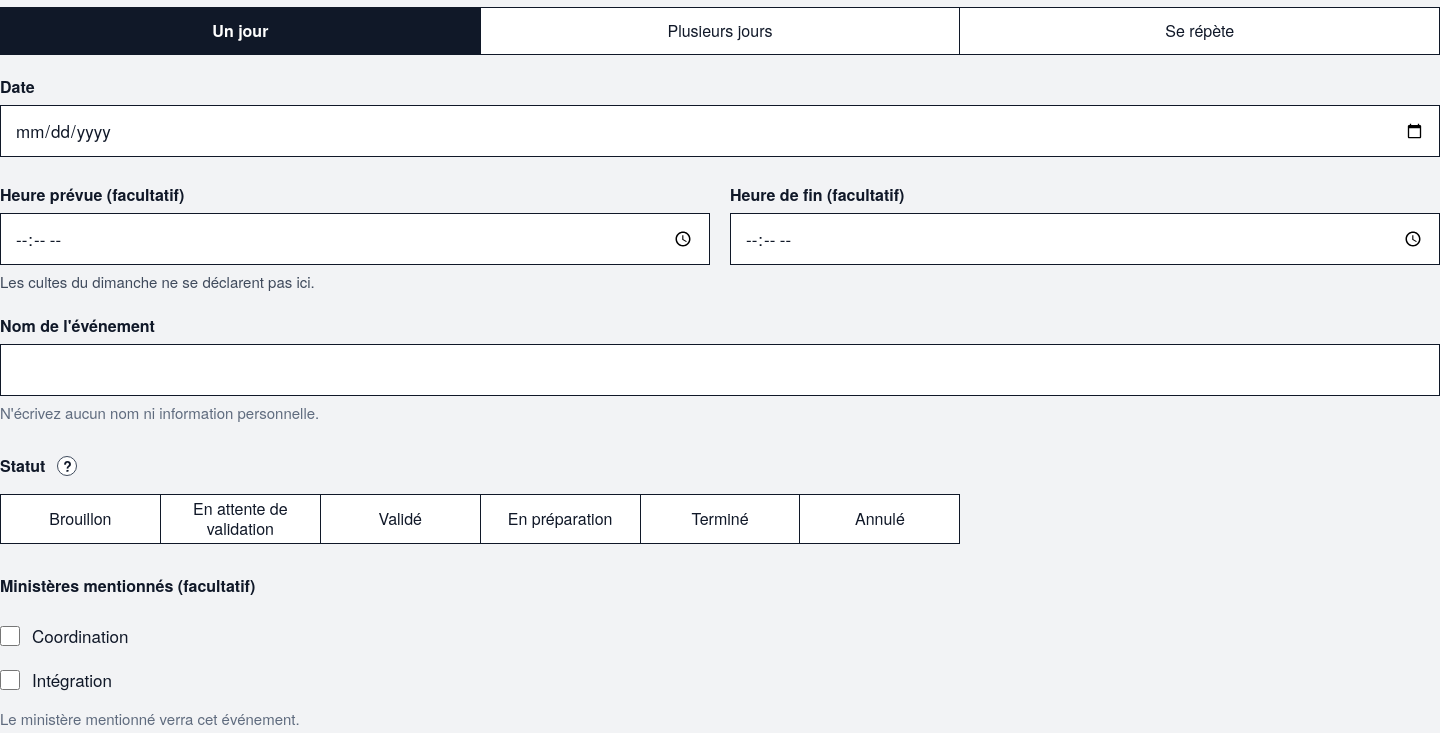
« Ajouter un événement » (maquette 11) › refus de la base sur l’heure prévue (E3) : la phrase du guide, sous le champ
Type "2026-10-10" into the date field labelled "Date" at point(720, 131), box x1=0 y1=105 x2=1439 y2=157
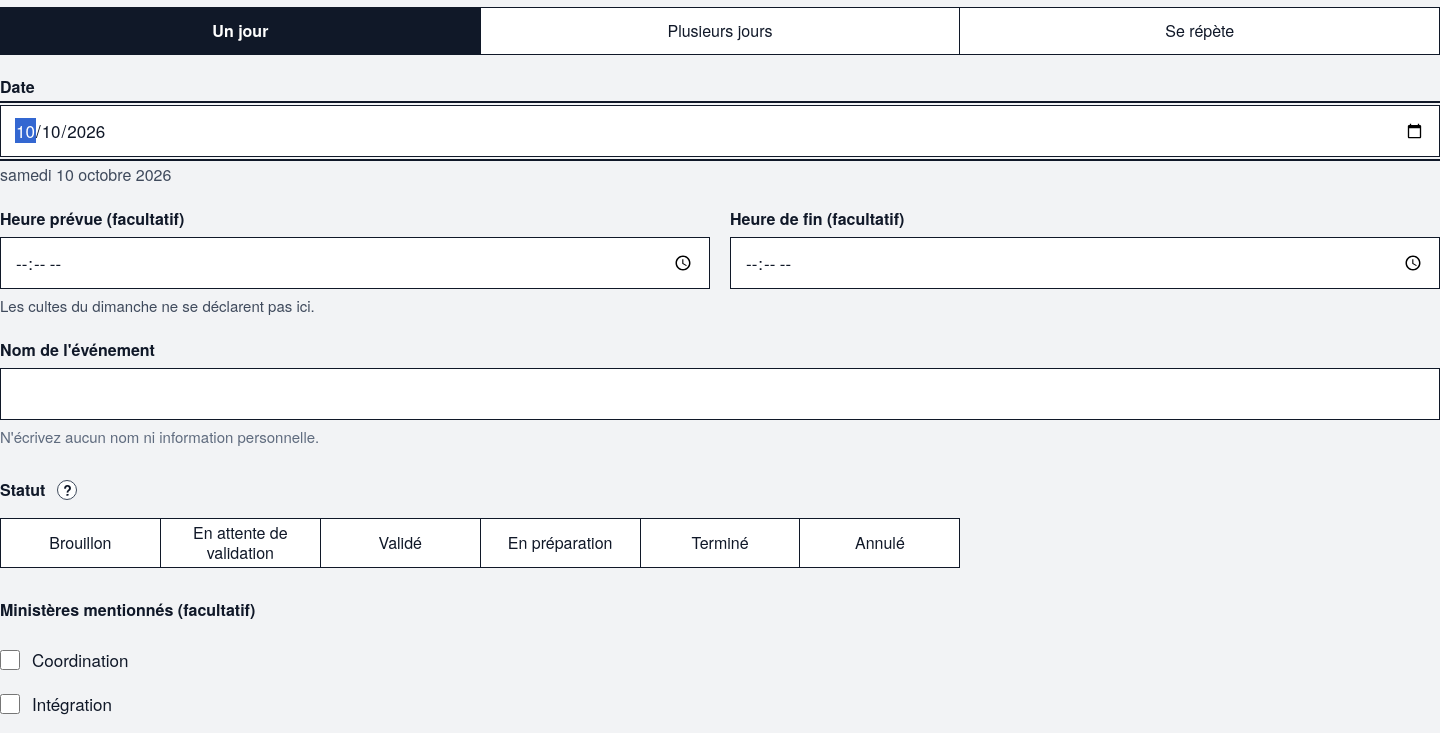
Type "  Soirée de louange " into the field labelled "Nom de l'événement" at point(720, 394), box x1=0 y1=368 x2=1439 y2=420
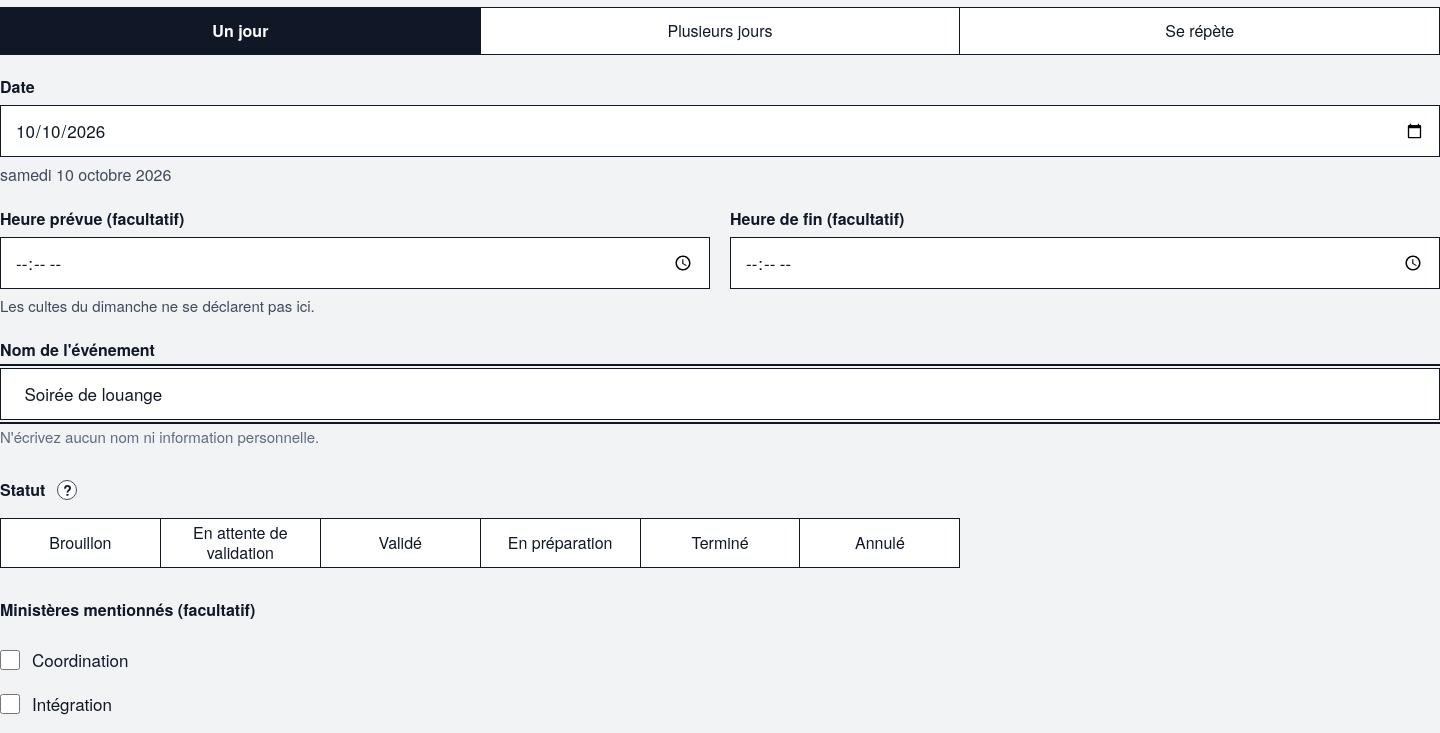
Click the radio button labelled "En attente de validation" at point(240, 543), box x1=160 y1=518 x2=321 y2=568
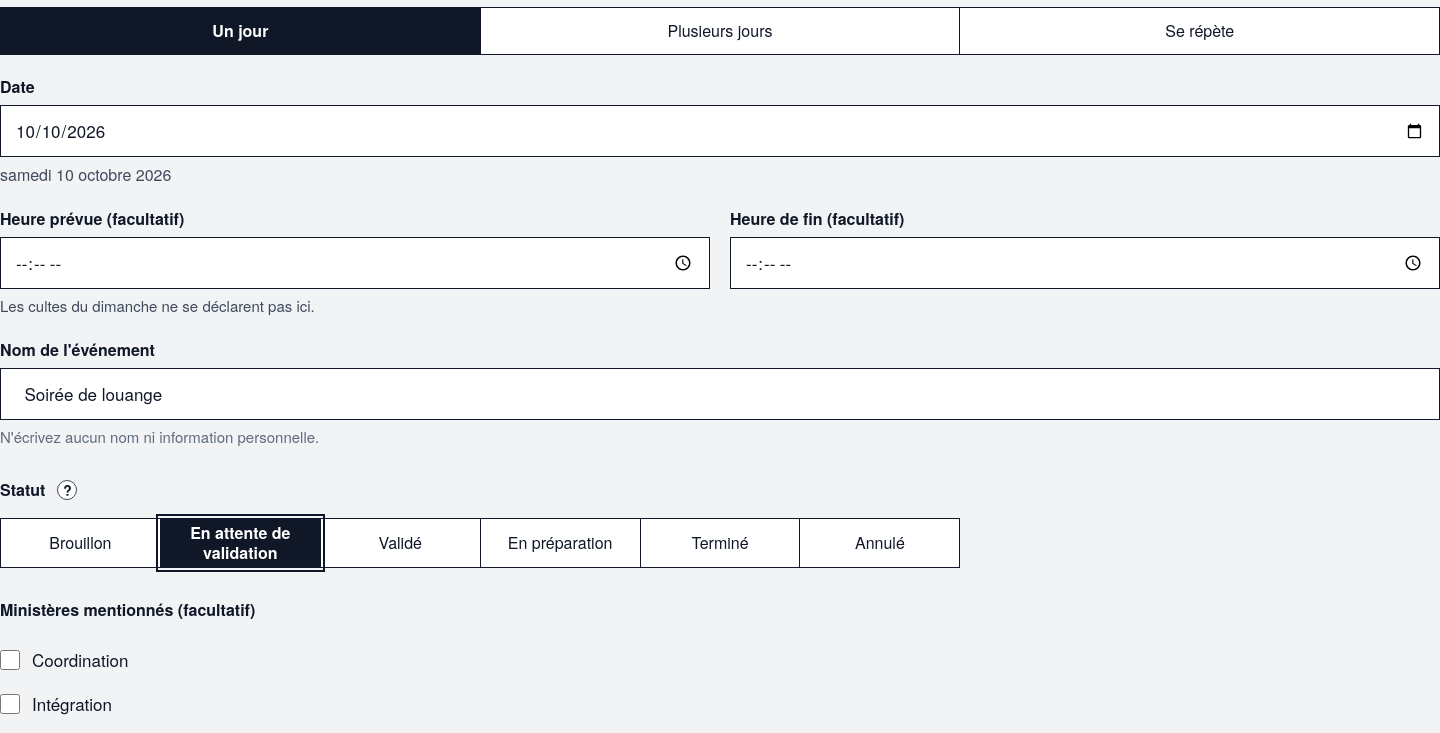
Click the checkbox labelled "Coordination" at point(10, 660), box x1=0 y1=650 x2=20 y2=670
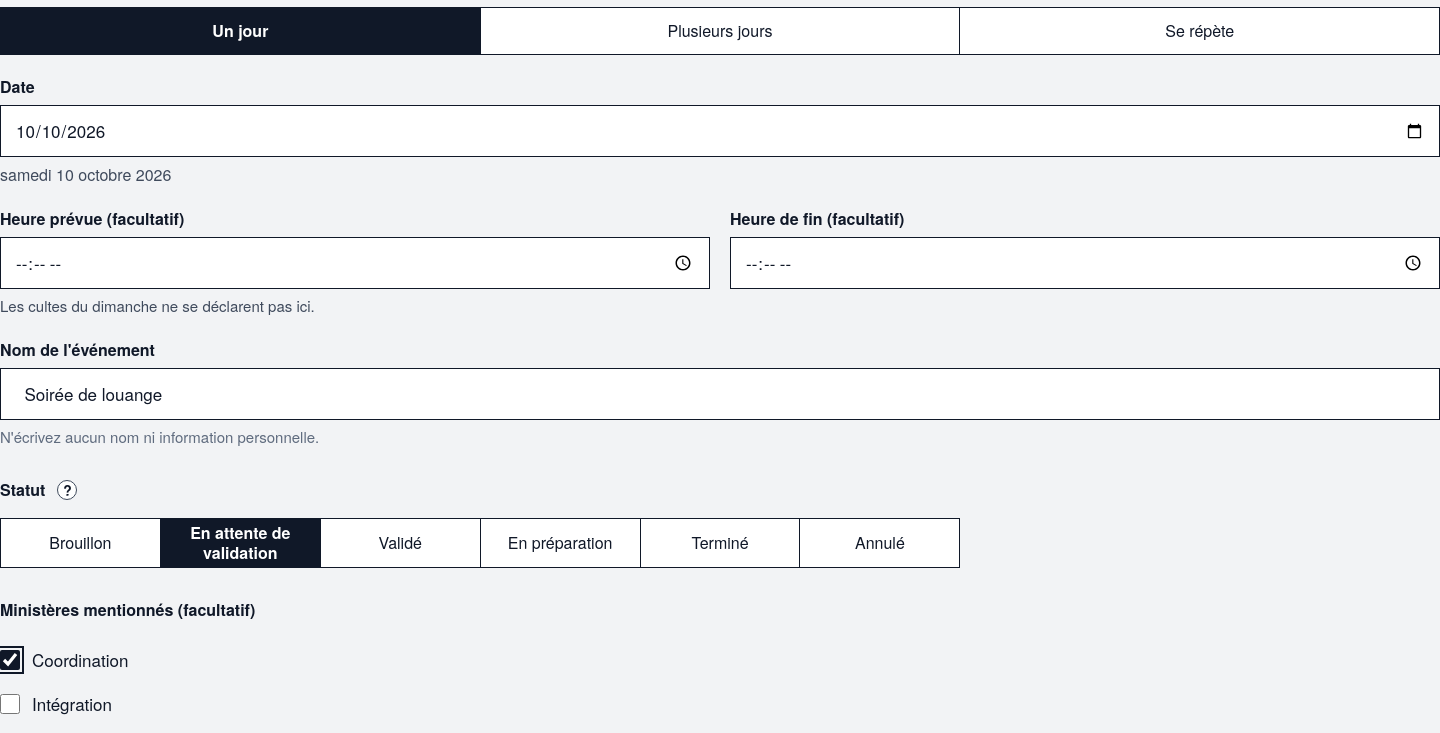
Type "19:05" into the time field labelled "Heure prévue (facultatif)" at point(355, 263), box x1=0 y1=237 x2=710 y2=289
(page scrolled)
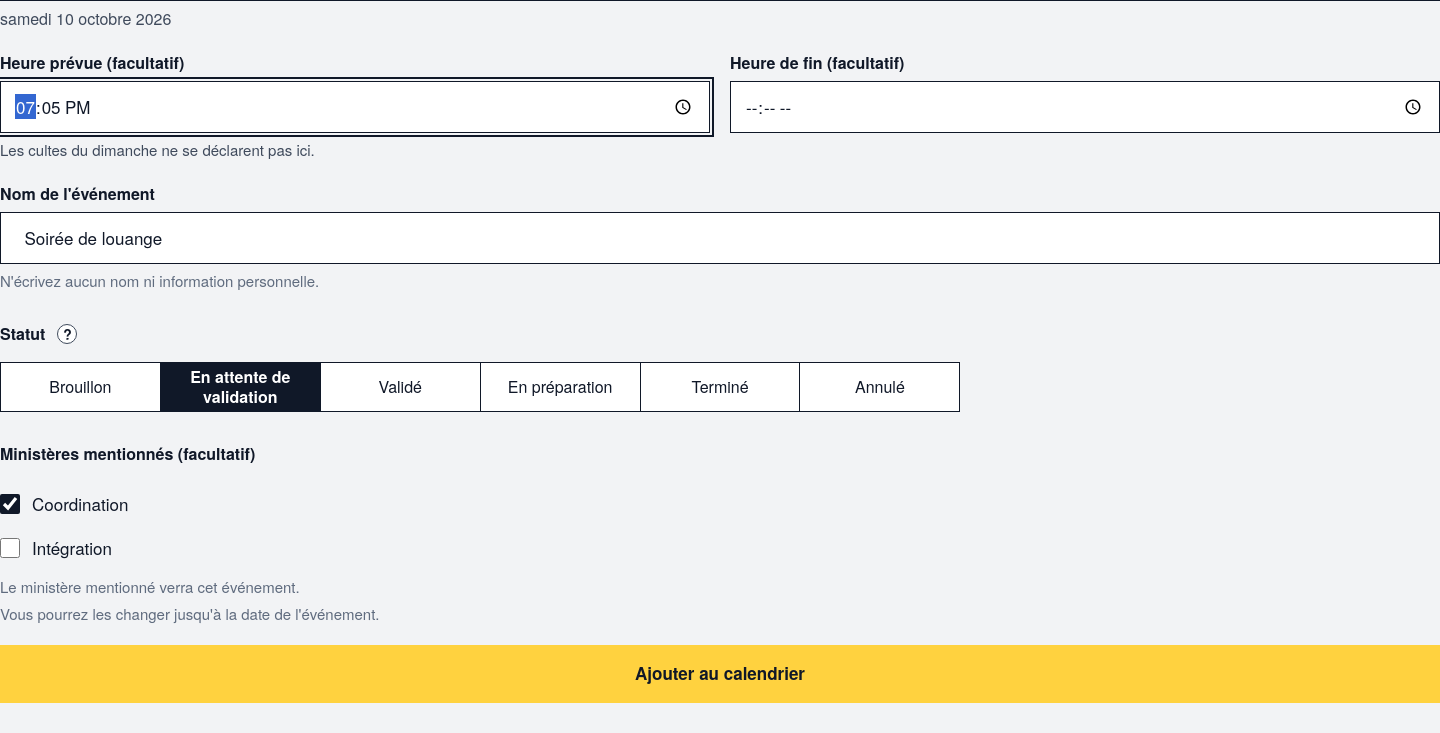
Click the button named "Ajouter au calendrier" at point(720, 674), box x1=0 y1=645 x2=1439 y2=703
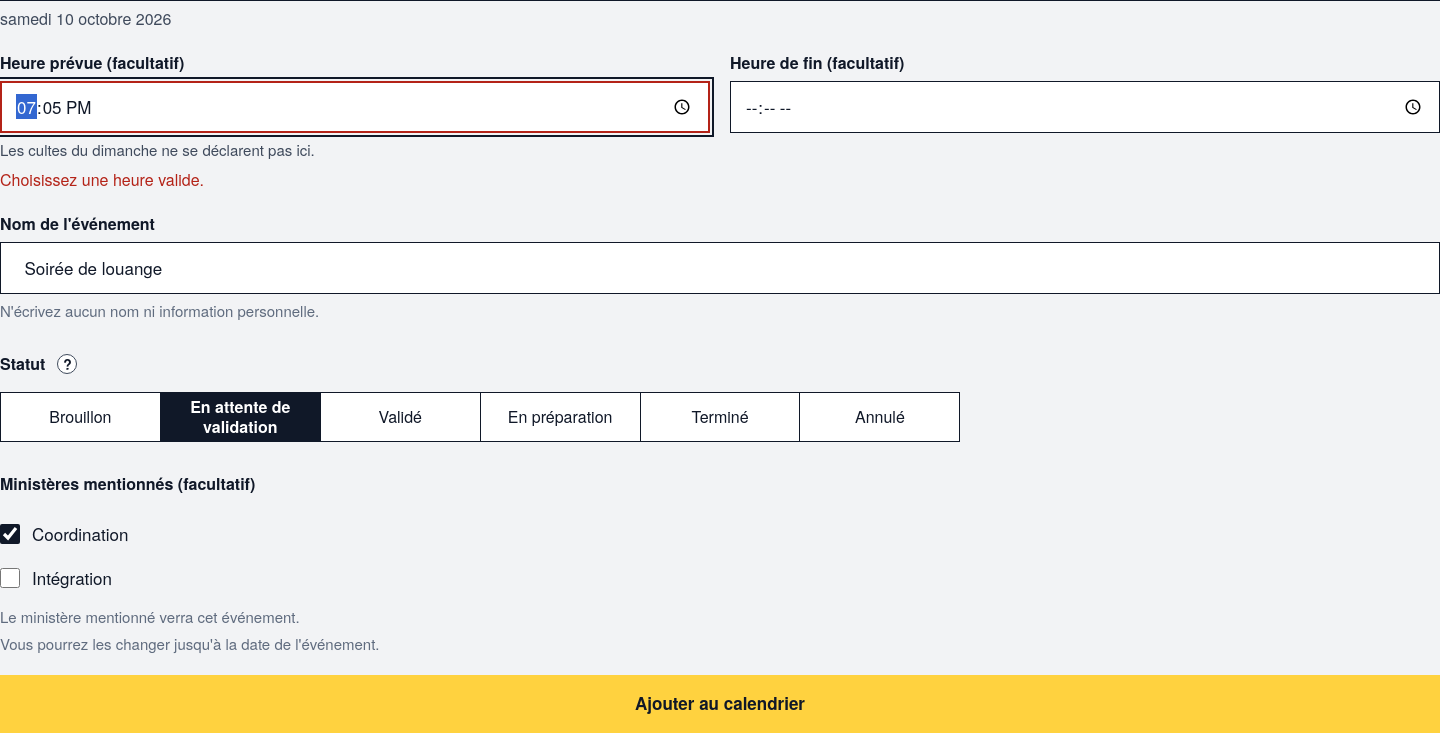
Now the text "Choisissez une heure valide." is shown, box x1=0 y1=168 x2=204 y2=190
